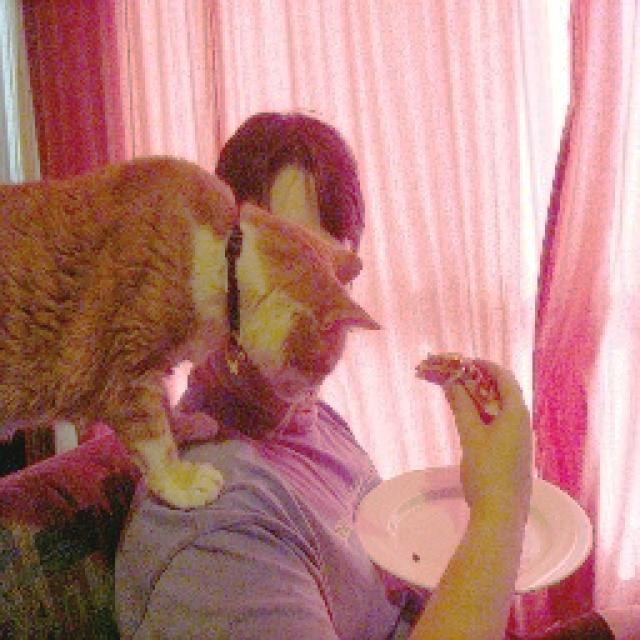cat: (0, 155, 385, 513)
